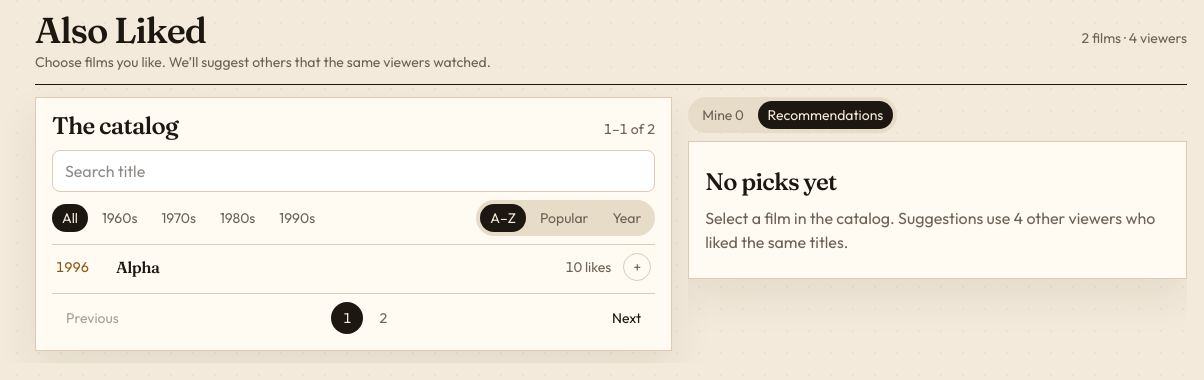
Test case: App › reports a suggestion failure that is not an Error
Click the button "1996 Alpha 10 likes +" at (73, 267), box x1=52 y1=244 x2=655 y2=289
Wait 160 ms
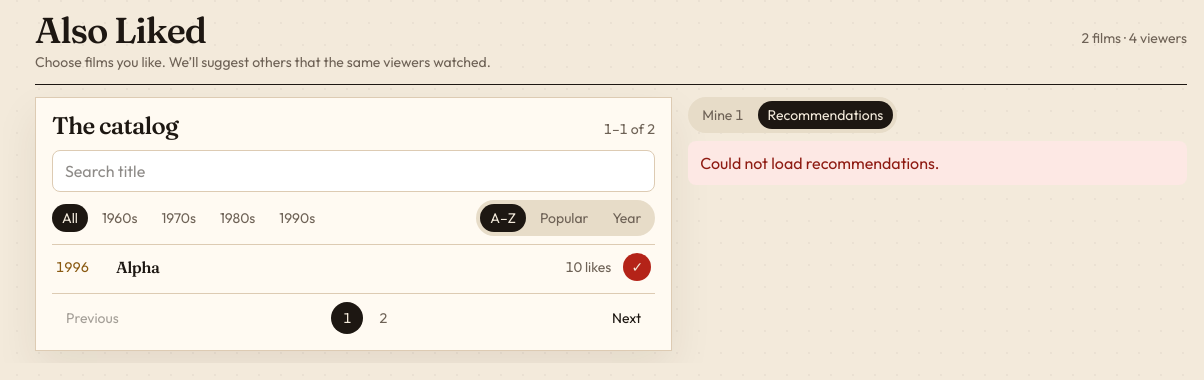
Expected: the text "Could not load recommendations." is shown, x1=688 y1=141 x2=1187 y2=185
Click the button "1996 Alpha 10 likes ✓" at (73, 267), box x1=52 y1=244 x2=655 y2=289
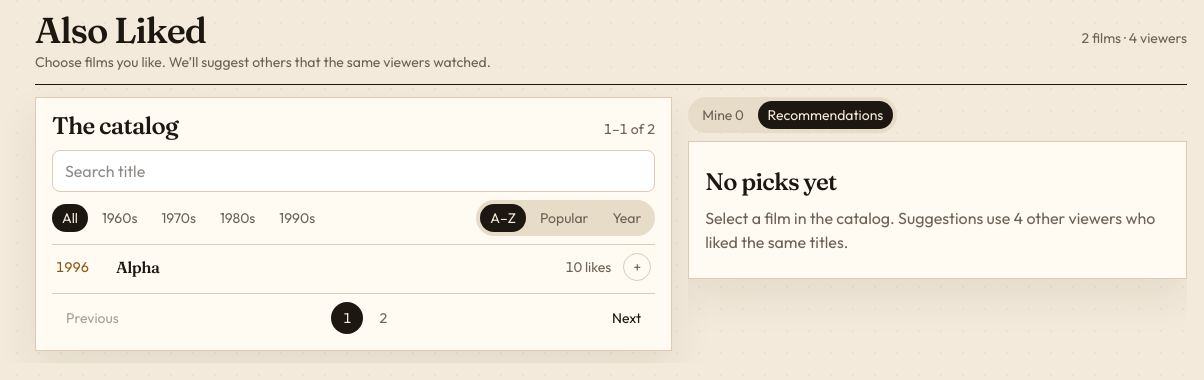
Click the button "1996 Alpha 10 likes +" at (73, 267), box x1=52 y1=244 x2=655 y2=289
Wait 160 ms
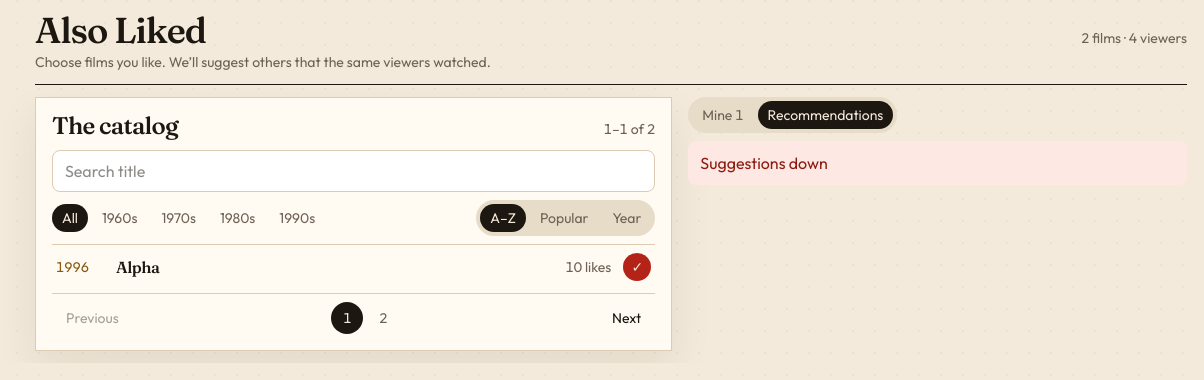
Expected: the text "Suggestions down" is shown, x1=688 y1=141 x2=1187 y2=185
